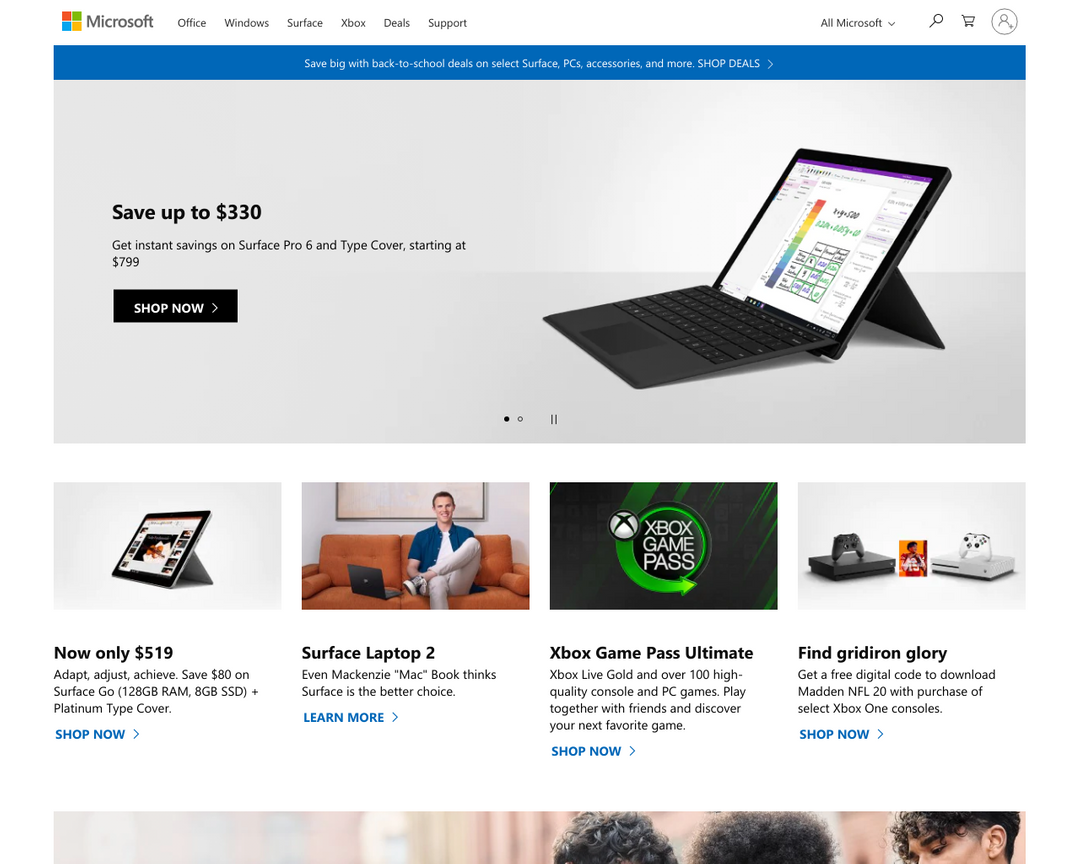Microsoft: (464, 79, 622, 184)
